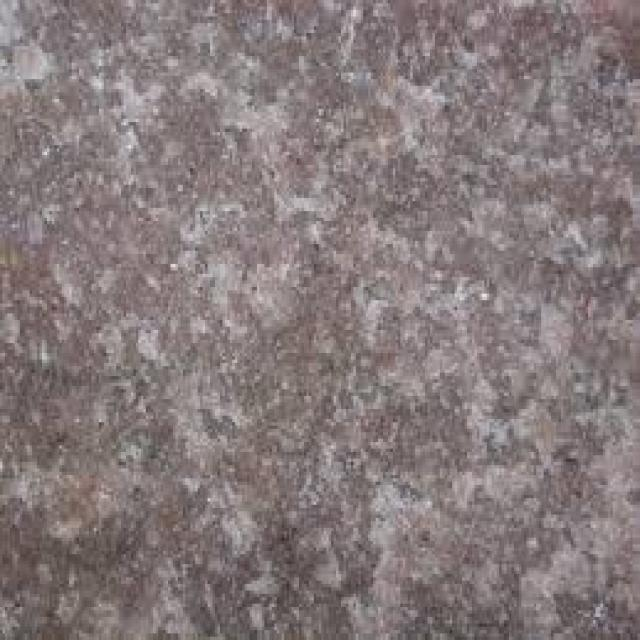Metamorphic: (8, 7, 630, 630)
